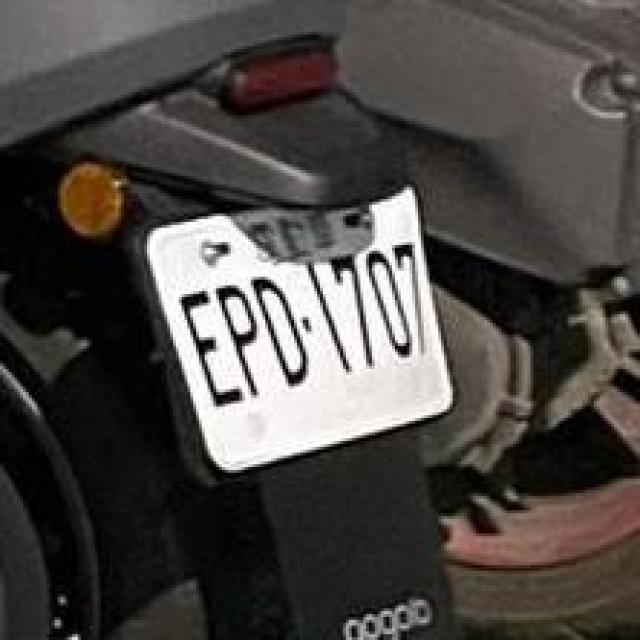W: (130, 144, 458, 487)
